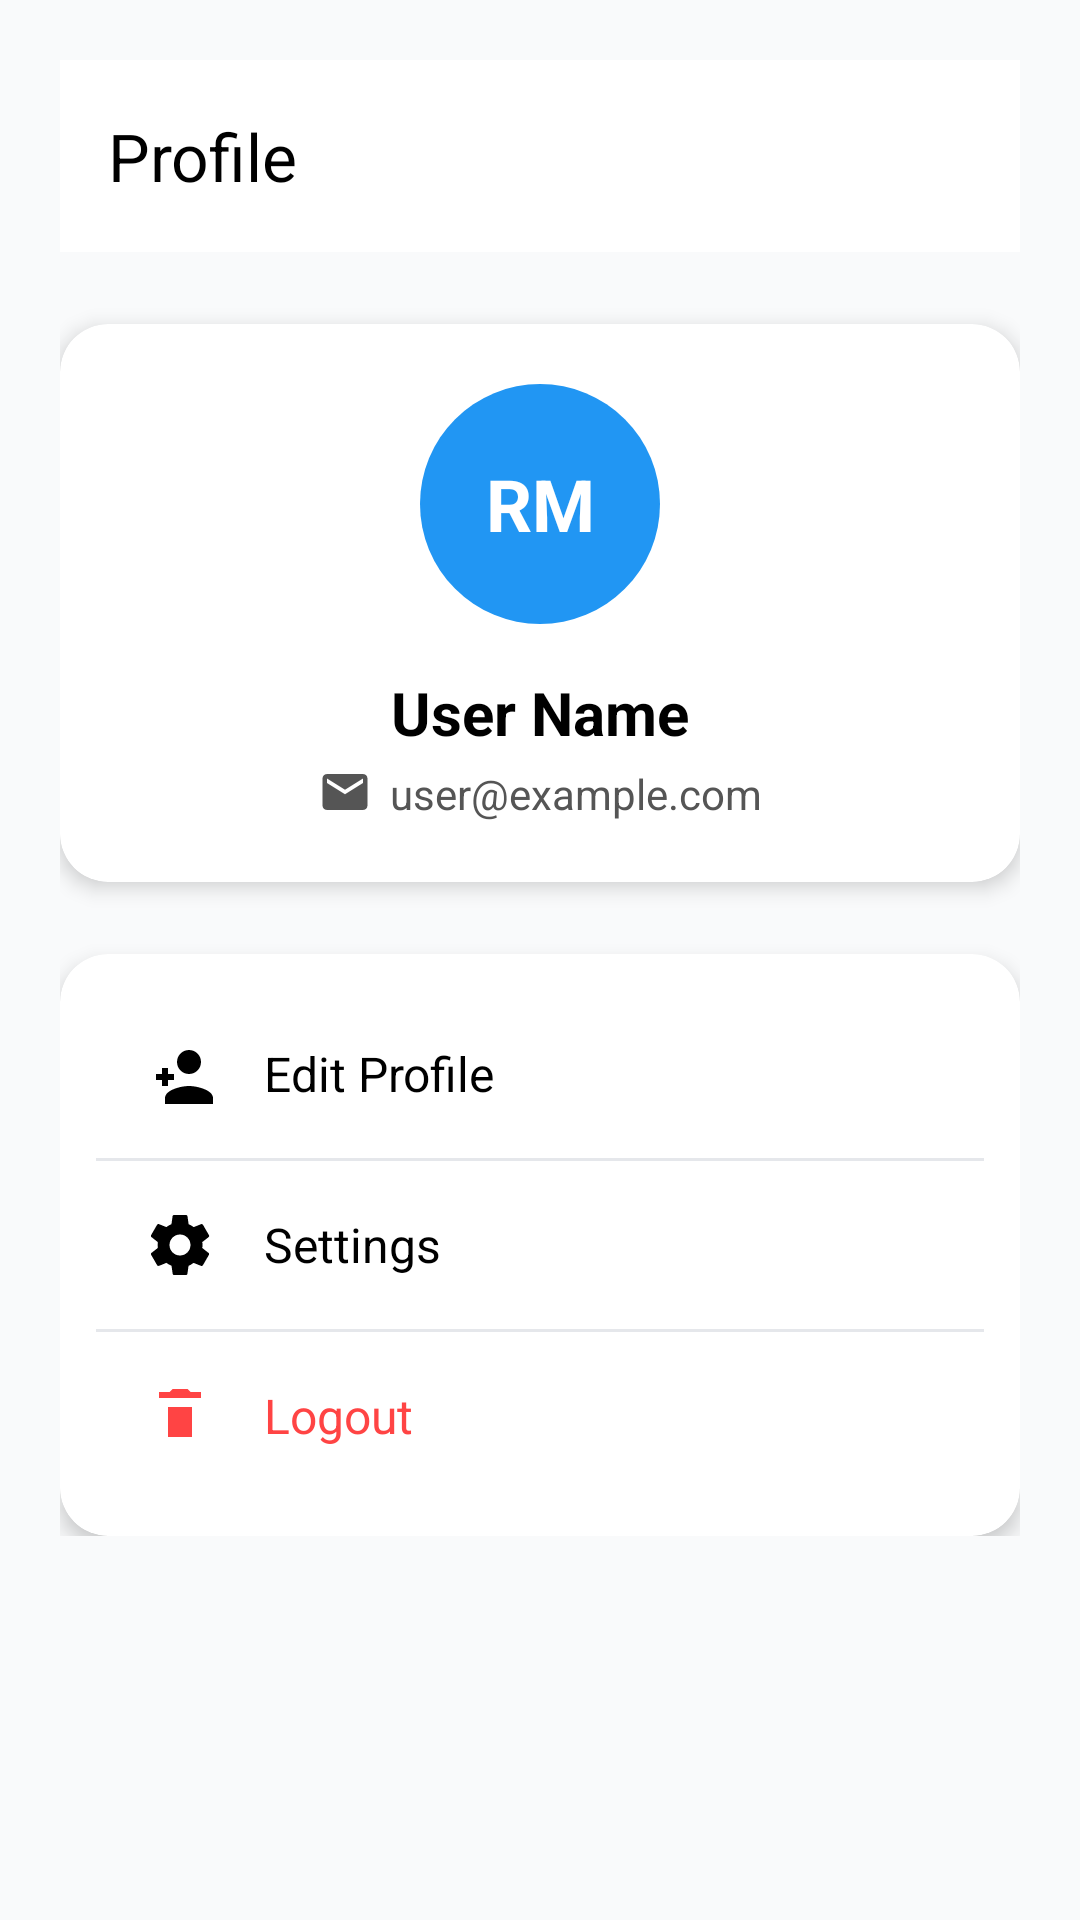

Icons on this 1080w x 1920h Android screen, each with its box as detection(x1, y1, x2, y2):
delete: detection(159, 1389, 201, 1437)
email: detection(322, 774, 368, 810)
person add: detection(156, 1050, 213, 1104)
